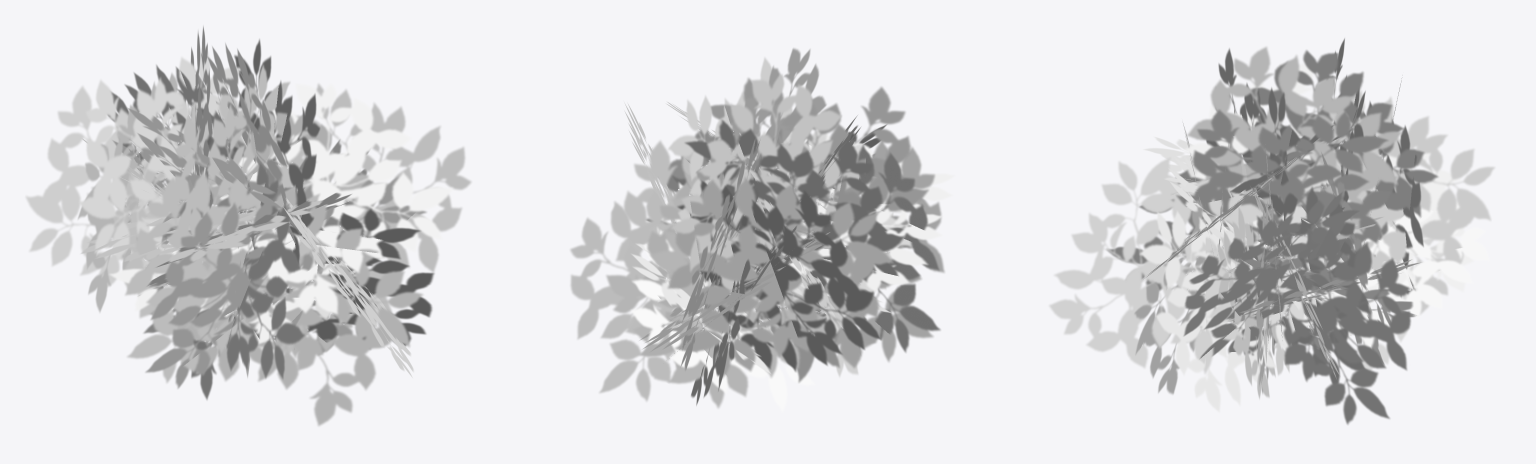
File: bush_stylized_1.glb
3 renders of one model, left to right at view 1: azimuth 30°, elevation 25°; view 2: azimuth 150°, elevation 25°; view 3: azimuth 270°, elevation 25°, orthographic. The views are drawn at different scales.
Parts seen in each view (by area): view 1: Bush; view 2: Bush; view 3: Bush.
Boxes of the visible parts, x1,y1,x2,y2 form: Bush: [25, 26, 471, 426]; Bush: [570, 48, 955, 412]; Bush: [1049, 38, 1495, 424].
Bounding box in the file's own units: 3.08 × 3.05 × 3.55.
1 material, 1 textured.
